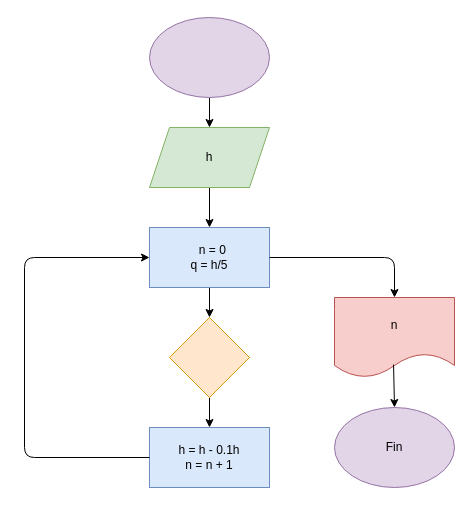
Image size: 472x505. Some labels were removed from this diagram. The centre of each missing label's shape, as x and y in pixels:
"h > q" belongs at point (209, 357).
"Inicio" belongs at point (209, 57).
